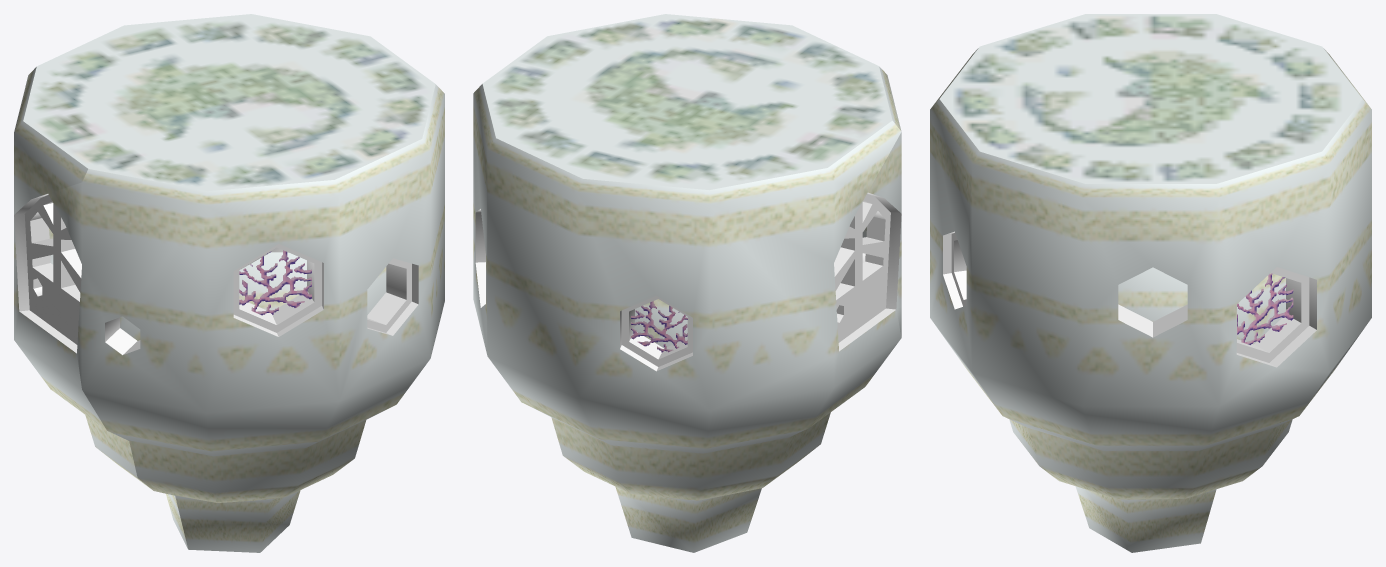
Rendered from WaterPlatform.obj.
3 views of the same model, side by side, from view 1: azimuth 30°, elevation 25°; view 2: azimuth 150°, elevation 25°; view 3: azimuth 270°, elevation 25° (orthographic).
Bounding box in the file's own units: 60.18 × 67.81 × 63.28.
Materials: 4 (4 with a texture image).
